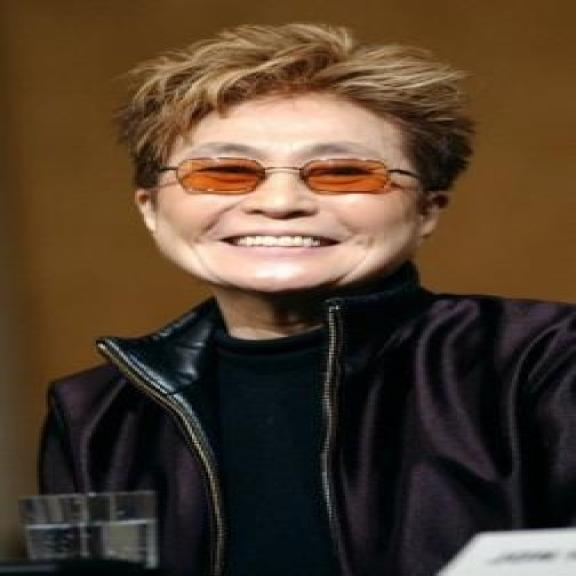face: (144, 97, 475, 296)
